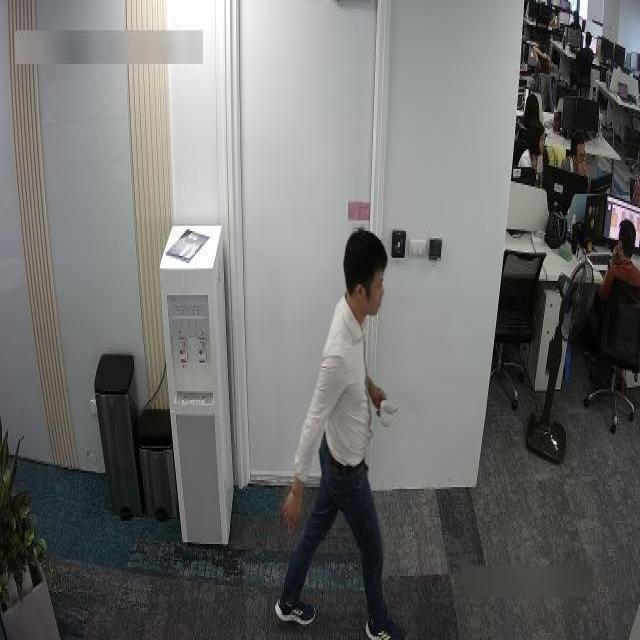bare_hand: (278, 466, 316, 537), (366, 375, 394, 416)
